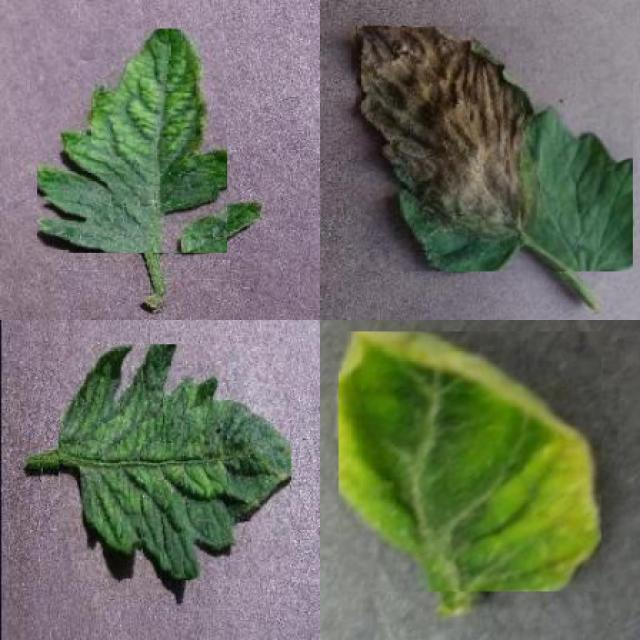Late Blight: (356, 27, 633, 272)
Mosaic Virus: (58, 344, 292, 579), (37, 28, 227, 253)
Yellow Leaf Curl Virus: (338, 332, 602, 591)
